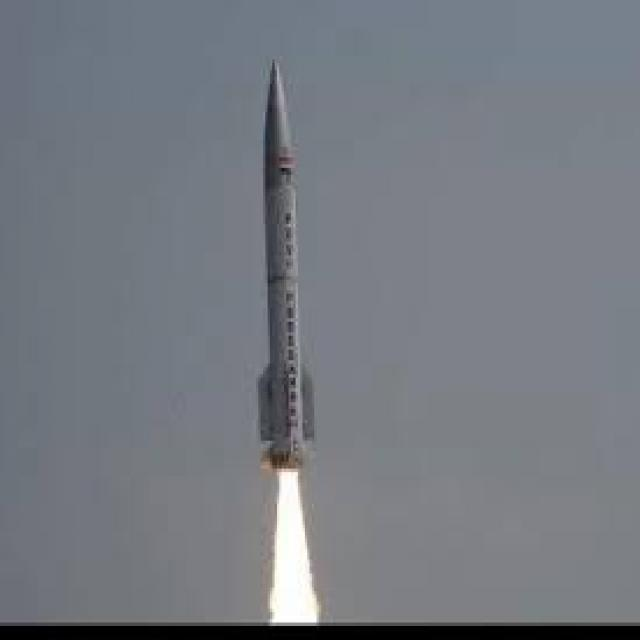Missile: (258, 51, 320, 479)
